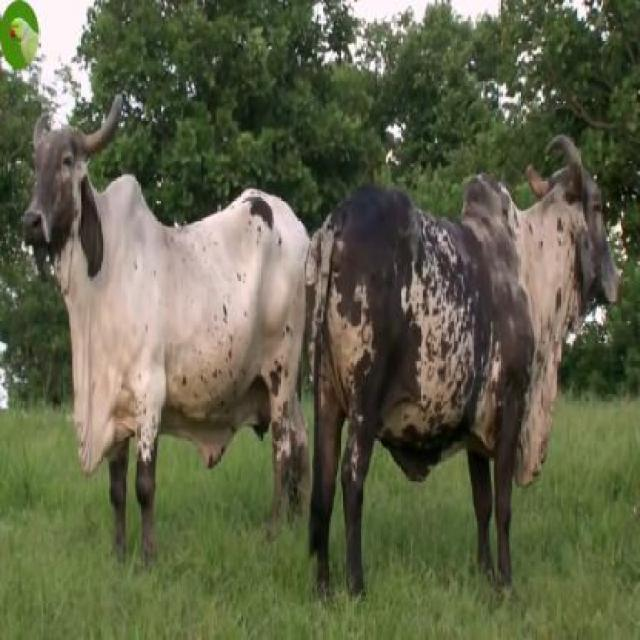Cow: (306, 136, 616, 604), (20, 94, 309, 574)
